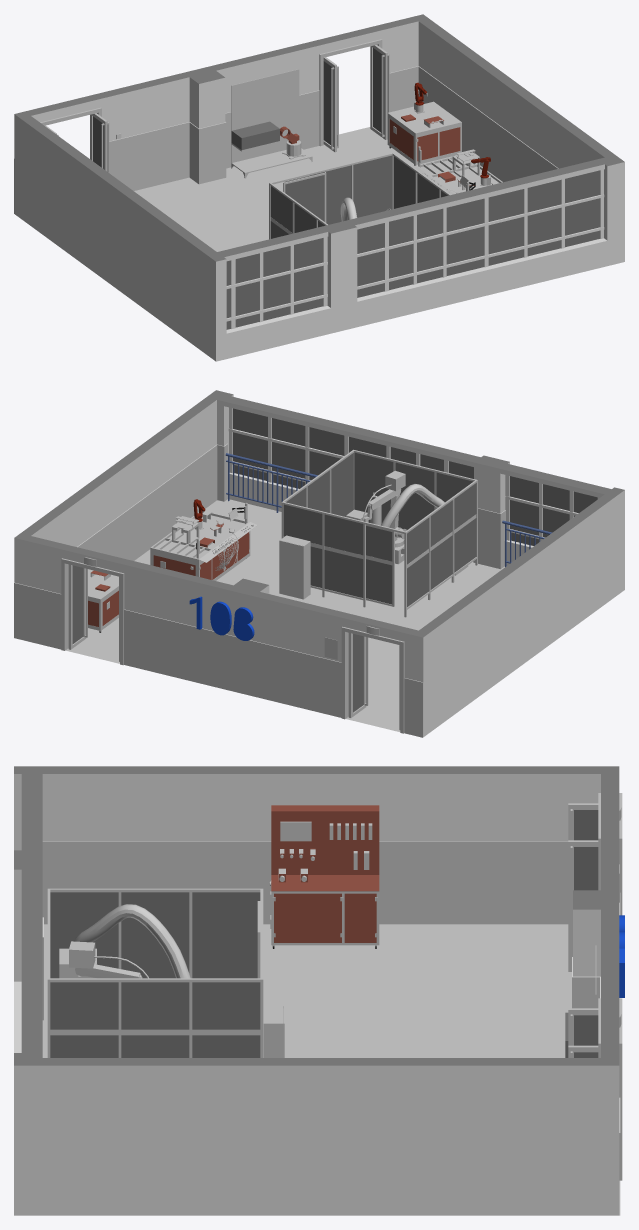
File: room108.obj
The picture shows the model from 3 angles, top to bottom: view 1: azimuth 30°, elevation 25°; view 2: azimuth 150°, elevation 25°; view 3: azimuth 270°, elevation 25°; orthographic projection. The views are drawn at different scales.
Visible parts, largest first — view 1: shebei_4108 Gzy_shebei_b4_grp shiyanshi108_4, shebei_4108 Gzy_shebei_b4_grp shiyanshi108_3, shebei_4108 Gzy_shebei_b4_grp shiyanshi108_27, shebei_4108 Gzy_shebei_b4_grp litishebei pCube254, shebei_4108 Gzy_shebei_b4_grp group15 shiyanshi108_23, shebei_4108 Gzy_shebei_b4_grp group15 shiyanshi108_13, shebei_4108 Gzy_shebei_b4_grp pCube315 group13, shebei_4108 Gzy_shebei_b4_grp shebei108_05 polySurface1527 polyS, shebei_4108 Gzy_shebei_b4_grp shebei108_05 polySurface1524, shebei_4108 Gzy_shebei_b4_grp pCube140 door03 group9 qiang, shebei_4108 Gzy_shebei_b4_grp group15 shiyanshi108_20, shebei_4108 Gzy_shebei_b4_grp door03 group9 qiang pCube141 (+11 smaller); view 2: shebei_4108 Gzy_shebei_b4_grp shiyanshi108_4, shebei_4108 Gzy_shebei_b4_grp litishebei pCube254, shebei_4108 Gzy_shebei_b4_grp shiyanshi108_27, shebei_4108 Gzy_shebei_b4_grp group15 shiyanshi108_14, shebei_4108 Gzy_shebei_b4_grp shiyanshi108_3, shebei_4108 Gzy_shebei_b4_grp group15 shiyanshi108_23, shebei_4108 Gzy_shebei_b4_grp group15 shiyanshi108_21, shebei_4108 Gzy_shebei_b4_grp shiyanshi108_2, shebei_4108 Gzy_shebei_b4_grp litishebei pCube256, shebei_4108 Gzy_shebei_b4_grp litishebei pCube275, shebei_4108 Gzy_shebei_b4_grp group9 qiang pCube140 door04, shebei_4108 Gzy_shebei_b4_grp pCube140 door03 group9 qiang (+17 smaller); view 3: shebei_4108 Gzy_shebei_b4_grp shiyanshi108_4, shebei_4108 Gzy_shebei_b4_grp shiyanshi108_27, shebei_4108 Gzy_shebei_b4_grp litishebei pCube254, shebei_4108 Gzy_shebei_b4_grp group15 shiyanshi108_10, shebei_4108 Gzy_shebei_b4_grp shebei03 pCube230, shebei_4108 Gzy_shebei_b4_grp litishebei group10 pCylinder69, shebei_4108 Gzy_shebei_b4_grp group9 qiang pCube140 door04, shebei_4108 Gzy_shebei_b4_grp litishebei group4_pCube81, shebei_4108 Gzy_shebei_b4_grp litishebei group4_pCube80, shebei_4108 Gzy_shebei_b4_grp litishebei pCube258, shebei_4108 Gzy_shebei_b4_grp door03 group9 qiang pCube141, shebei_4108 Gzy_shebei_b4_grp group9 qiang door04 pCube141 (+10 smaller).
Boxes of the visible parts, left/top/right/bottom form: shebei_4108 Gzy_shebei_b4_grp shiyanshi108_4: left=14, top=14, right=624, bottom=361; shebei_4108 Gzy_shebei_b4_grp shiyanshi108_3: left=226, top=169, right=604, bottom=329; shebei_4108 Gzy_shebei_b4_grp shiyanshi108_27: left=134, top=127, right=452, bottom=251; shebei_4108 Gzy_shebei_b4_grp litishebei pCube254: left=270, top=155, right=447, bottom=238; shebei_4108 Gzy_shebei_b4_grp group15 shiyanshi108_23: left=418, top=66, right=558, bottom=182; shebei_4108 Gzy_shebei_b4_grp group15 shiyanshi108_13: left=109, top=122, right=189, bottom=190; shebei_4108 Gzy_shebei_b4_grp pCube315 group13: left=231, top=69, right=299, bottom=162; shebei_4108 Gzy_shebei_b4_grp shebei108_05 polySurface1527 polyS: left=387, top=101, right=461, bottom=165; shebei_4108 Gzy_shebei_b4_grp shebei108_05 polySurface1524: left=389, top=114, right=460, bottom=161; shebei_4108 Gzy_shebei_b4_grp pCube140 door03 group9 qiang: left=370, top=45, right=389, bottom=139; shebei_4108 Gzy_shebei_b4_grp group15 shiyanshi108_20: left=225, top=90, right=319, bottom=168; shebei_4108 Gzy_shebei_b4_grp door03 group9 qiang pCube141: left=323, top=57, right=338, bottom=152; shebei_4108 Gzy_shebei_b4_grp shiyanshi108_4: left=14, top=390, right=624, bottom=736; shebei_4108 Gzy_shebei_b4_grp litishebei pCube254: left=283, top=452, right=476, bottom=607; shebei_4108 Gzy_shebei_b4_grp shiyanshi108_27: left=65, top=499, right=504, bottom=731; shebei_4108 Gzy_shebei_b4_grp group15 shiyanshi108_14: left=124, top=609, right=341, bottom=717; shebei_4108 Gzy_shebei_b4_grp shiyanshi108_3: left=228, top=407, right=599, bottom=545; shebei_4108 Gzy_shebei_b4_grp group15 shiyanshi108_23: left=77, top=445, right=217, bottom=560; shebei_4108 Gzy_shebei_b4_grp group15 shiyanshi108_21: left=14, top=582, right=61, bottom=649; shebei_4108 Gzy_shebei_b4_grp shiyanshi108_2: left=225, top=453, right=552, bottom=566; shebei_4108 Gzy_shebei_b4_grp litishebei pCube256: left=366, top=526, right=392, bottom=604; shebei_4108 Gzy_shebei_b4_grp litishebei pCube275: left=279, top=535, right=310, bottom=599; shebei_4108 Gzy_shebei_b4_grp group9 qiang pCube140 door04: left=348, top=633, right=368, bottom=717; shebei_4108 Gzy_shebei_b4_grp pCube140 door03 group9 qiang: left=68, top=564, right=87, bottom=649; shebei_4108 Gzy_shebei_b4_grp shiyanshi108_4: left=14, top=766, right=619, bottom=1215; shebei_4108 Gzy_shebei_b4_grp shiyanshi108_27: left=42, top=924, right=620, bottom=1215; shebei_4108 Gzy_shebei_b4_grp litishebei pCube254: left=50, top=892, right=260, bottom=1057; shebei_4108 Gzy_shebei_b4_grp group15 shiyanshi108_10: left=42, top=841, right=568, bottom=924; shebei_4108 Gzy_shebei_b4_grp shebei03 pCube230: left=271, top=805, right=379, bottom=942; shebei_4108 Gzy_shebei_b4_grp litishebei group10 pCylinder69: left=74, top=904, right=190, bottom=978; shebei_4108 Gzy_shebei_b4_grp group9 qiang pCube140 door04: left=568, top=840, right=598, bottom=971; shebei_4108 Gzy_shebei_b4_grp litishebei group4_pCube81: left=50, top=978, right=263, bottom=1057; shebei_4108 Gzy_shebei_b4_grp litishebei group4_pCube80: left=50, top=888, right=263, bottom=978; shebei_4108 Gzy_shebei_b4_grp litishebei pCube258: left=50, top=1029, right=260, bottom=1035; shebei_4108 Gzy_shebei_b4_grp door03 group9 qiang pCube141: left=568, top=1008, right=598, bottom=1045; shebei_4108 Gzy_shebei_b4_grp group9 qiang door04 pCube141: left=568, top=803, right=598, bottom=840.
Bounding box in the file's own units: 1007 × 235 × 869.
